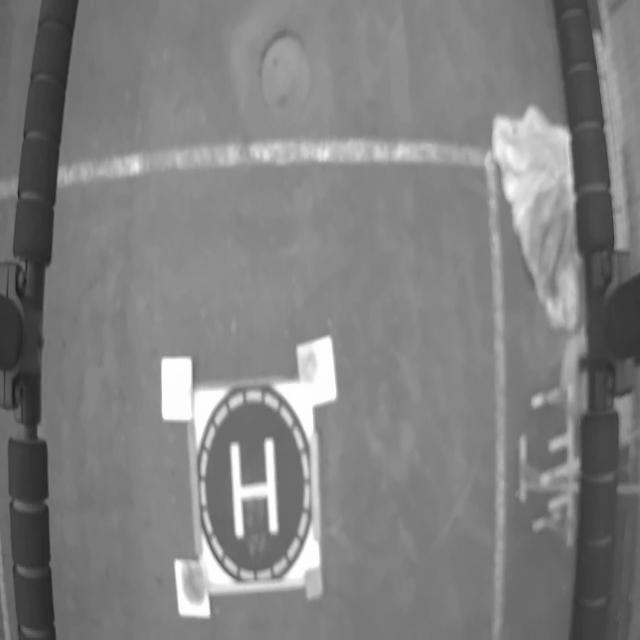Helipad: (230, 439, 279, 540)
